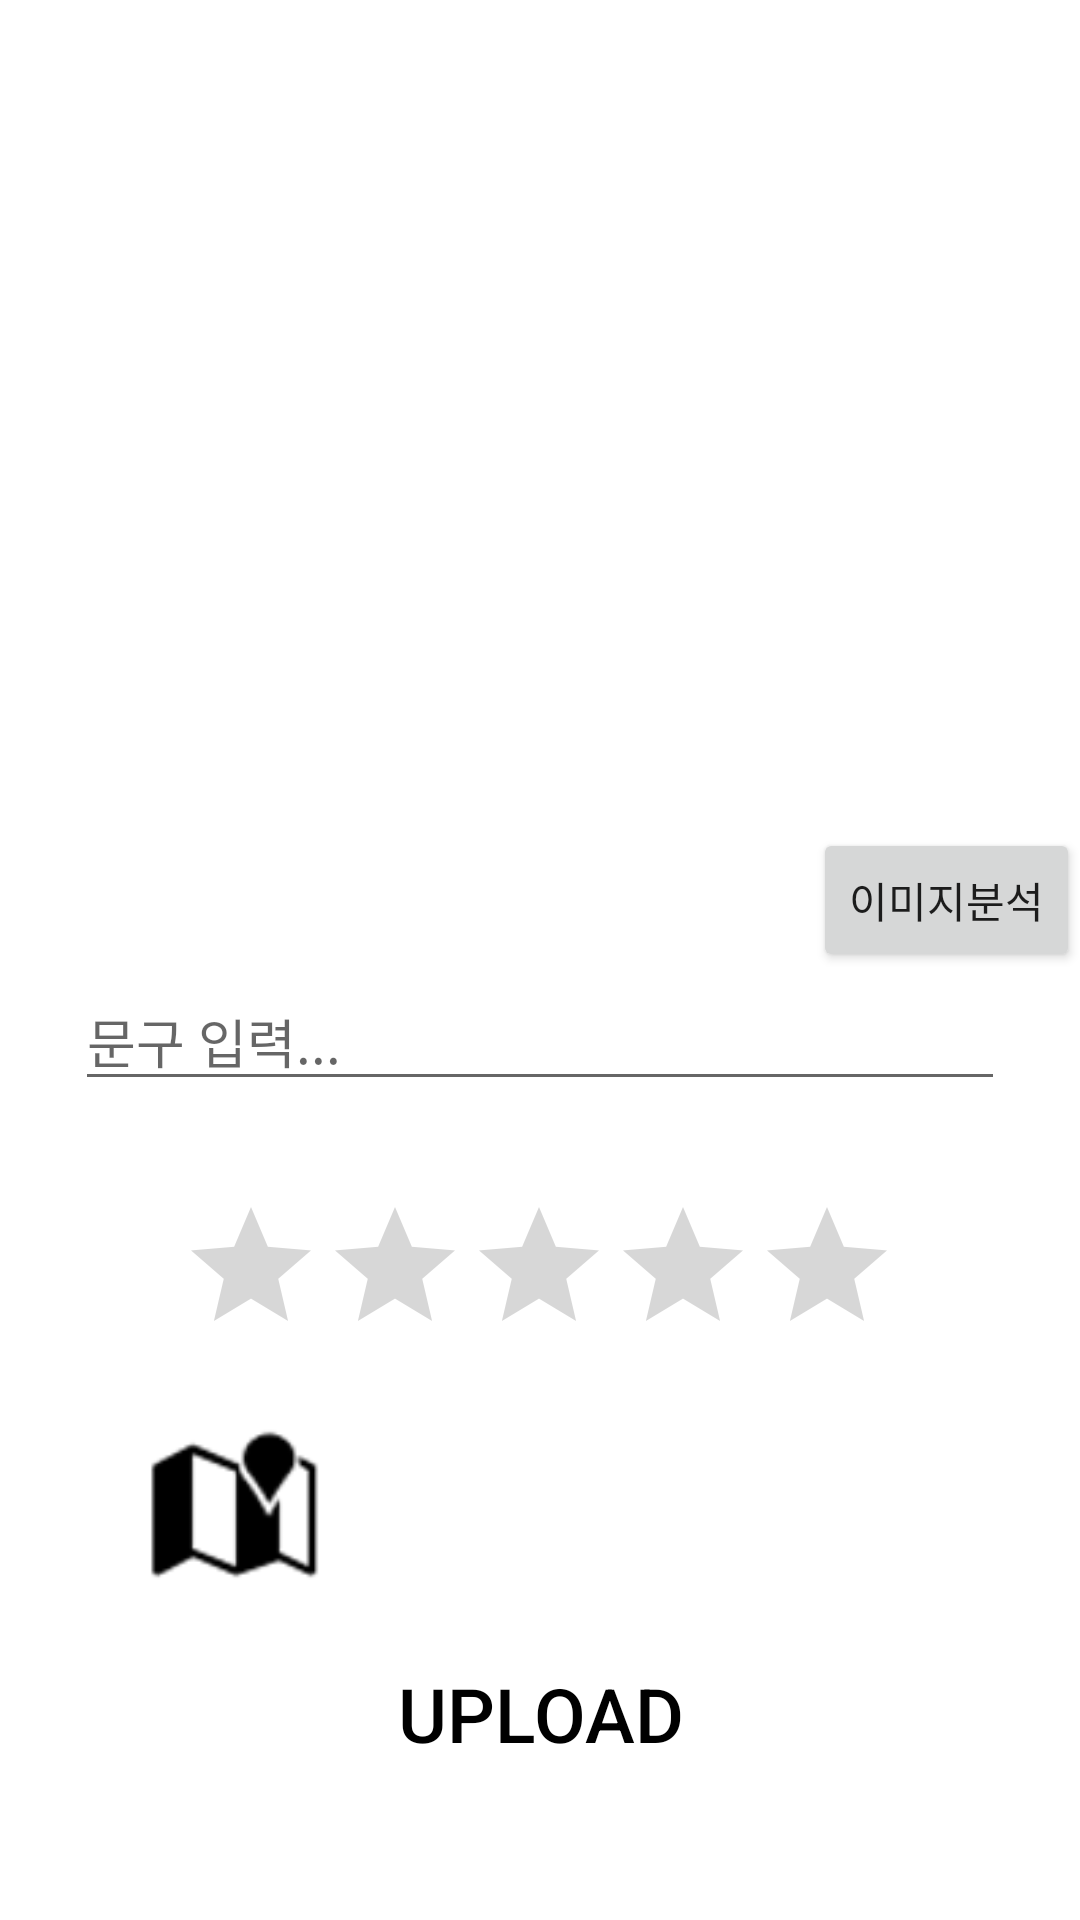

Icon click points for this 1080 × 1920 phone screenshot, format point (x, y):
map: point (234, 1504)
